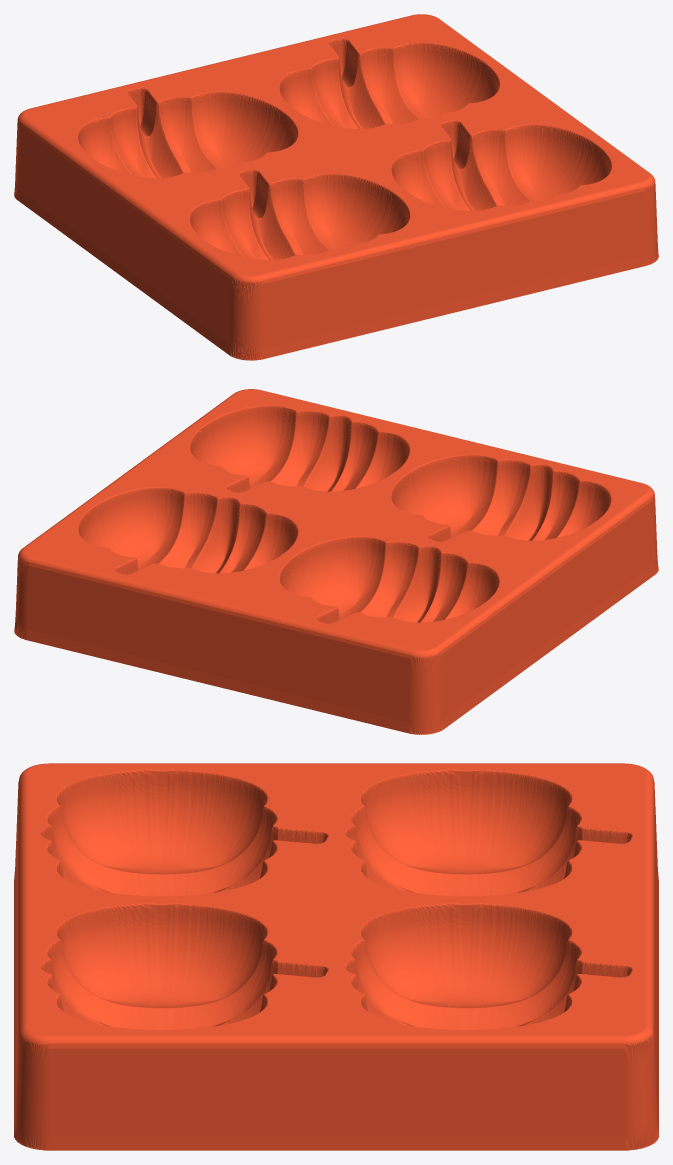
Rendered from mold.glb.
3 renders of one model, top to bottom at view 1: azimuth 30°, elevation 25°; view 2: azimuth 150°, elevation 25°; view 3: azimuth 270°, elevation 25°, orthographic. The views are drawn at different scales.
Visible parts, largest first — view 1: geometry_0; view 2: geometry_0; view 3: geometry_0.
Part boxes in pixels (<box>): geometry_0: <box>14,14,658,360</box>; geometry_0: <box>14,389,658,734</box>; geometry_0: <box>14,763,658,1150</box>.
Size of the model in its own units: 0.1721 by 0.031 by 0.1659.
